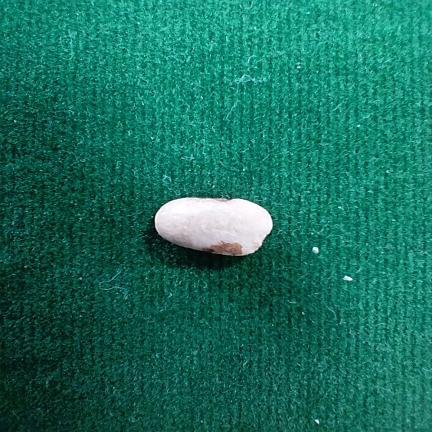shell: (155, 197, 272, 256)
